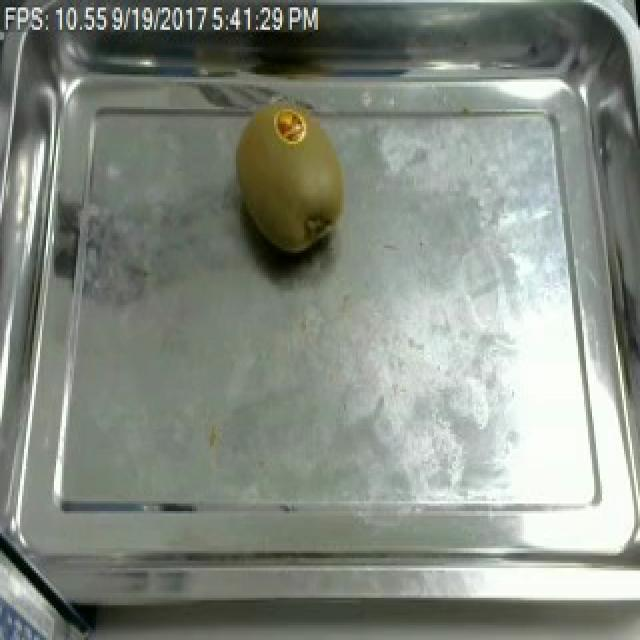Fruit: (228, 97, 356, 265)
